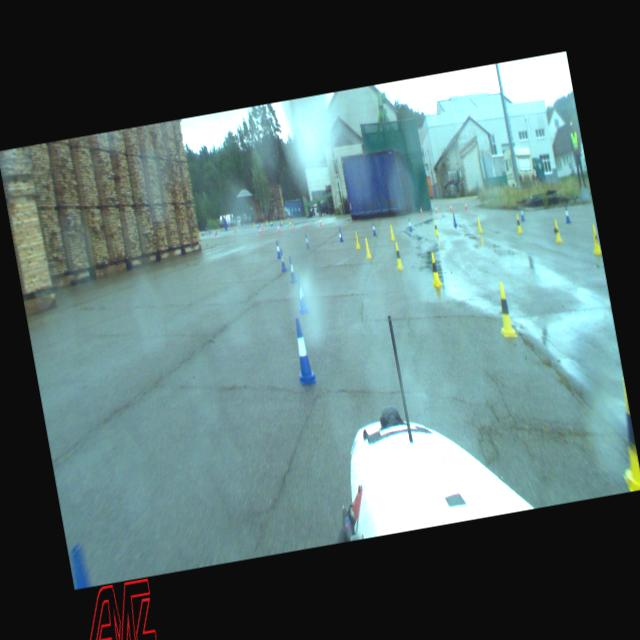blue_cone: (288, 316, 316, 385), (293, 274, 309, 314), (286, 254, 296, 284), (278, 247, 287, 271), (563, 204, 571, 223), (337, 226, 344, 242), (518, 205, 525, 221), (303, 233, 310, 249), (274, 240, 280, 258), (451, 212, 457, 226), (371, 222, 376, 236), (407, 218, 412, 230)
orange_cone: (448, 202, 452, 212), (464, 200, 468, 210), (276, 223, 280, 232), (258, 226, 262, 235), (290, 222, 294, 230), (434, 204, 438, 212), (318, 218, 322, 225), (420, 206, 422, 215), (304, 219, 306, 228)
yellow_cone: (605, 379, 640, 492), (492, 282, 518, 340), (427, 250, 442, 288), (588, 223, 602, 256), (392, 241, 404, 270), (552, 218, 562, 243), (362, 237, 372, 258), (514, 212, 522, 234), (352, 230, 360, 249), (432, 219, 439, 236), (476, 216, 482, 234), (388, 224, 395, 238)
